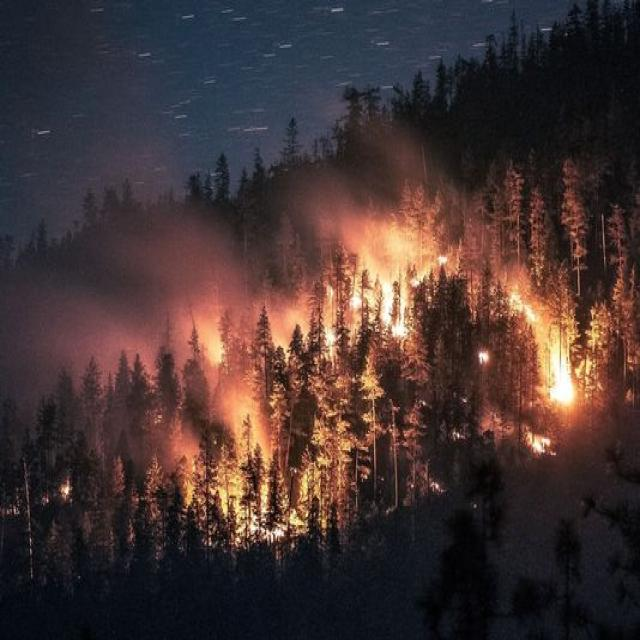Fire: (162, 192, 598, 541)
Smoke: (0, 118, 640, 466)
